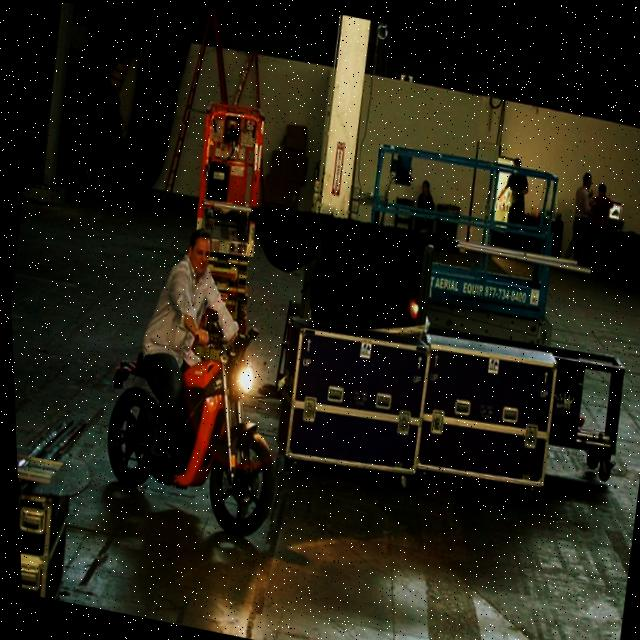motorcycle: (75, 279, 315, 563)
